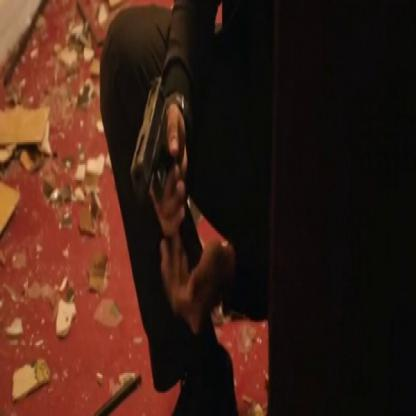Guns: (126, 68, 205, 279)
